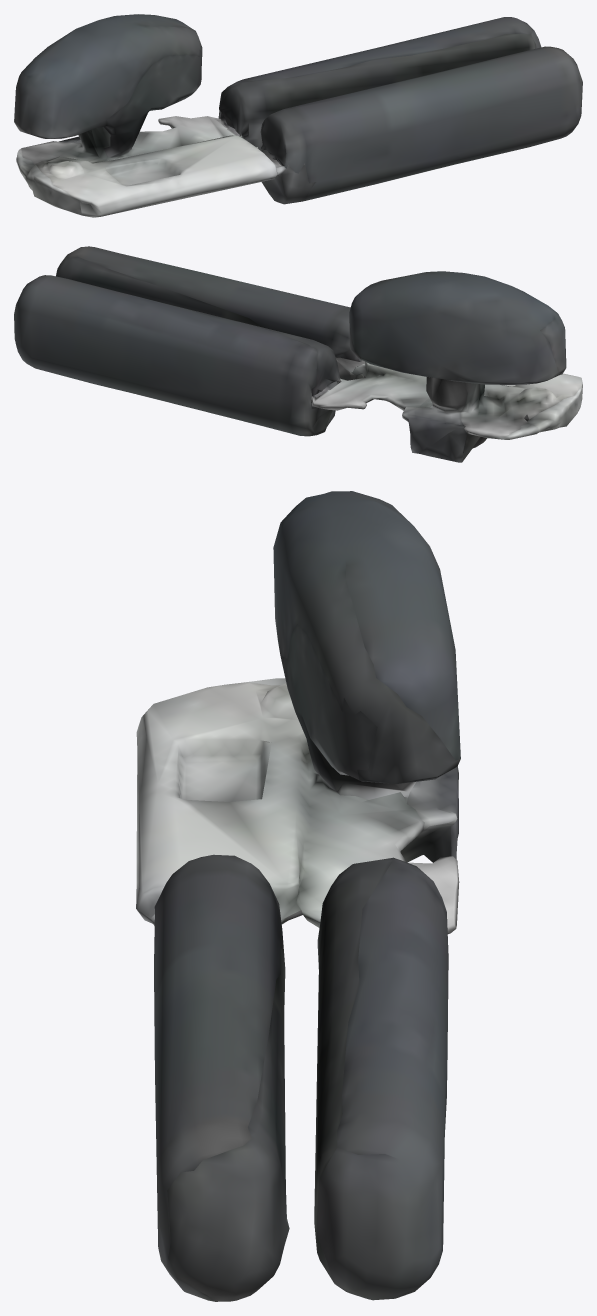
The model's file is Granimals_20_Wooden_ABC_Blocks_Wagon-medium.glb.
The picture shows the model from 3 angles, top to bottom: view 1: azimuth 30°, elevation 25°; view 2: azimuth 150°, elevation 25°; view 3: azimuth 270°, elevation 25°; orthographic projection. The views are drawn at different scales.
Parts seen in each view (by area): view 1: Granimals_20_Wooden_ABC_Blocks_Wagon; view 2: Granimals_20_Wooden_ABC_Blocks_Wagon; view 3: Granimals_20_Wooden_ABC_Blocks_Wagon.
Boxes of the visible parts, left/top/right/bottom form: Granimals_20_Wooden_ABC_Blocks_Wagon: left=14, top=14, right=582, bottom=217; Granimals_20_Wooden_ABC_Blocks_Wagon: left=14, top=246, right=582, bottom=462; Granimals_20_Wooden_ABC_Blocks_Wagon: left=136, top=491, right=460, bottom=1301.
Bounding box in the file's own units: 0.1897 × 0.0635 × 0.0505.
1 material, 1 textured.
